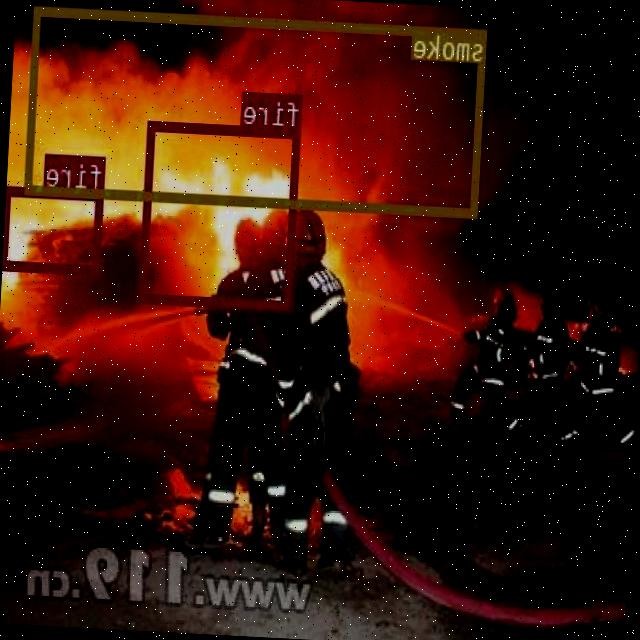fire: (141, 120, 303, 309), (2, 183, 104, 274)
smoke: (26, 3, 489, 216)
